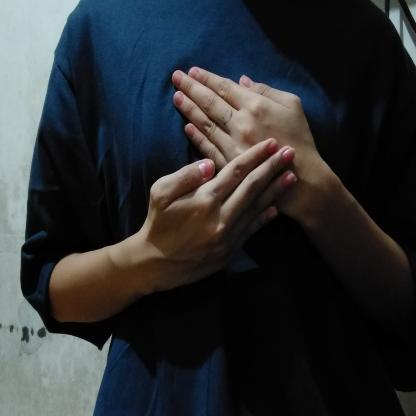thank you: (132, 56, 338, 299)
